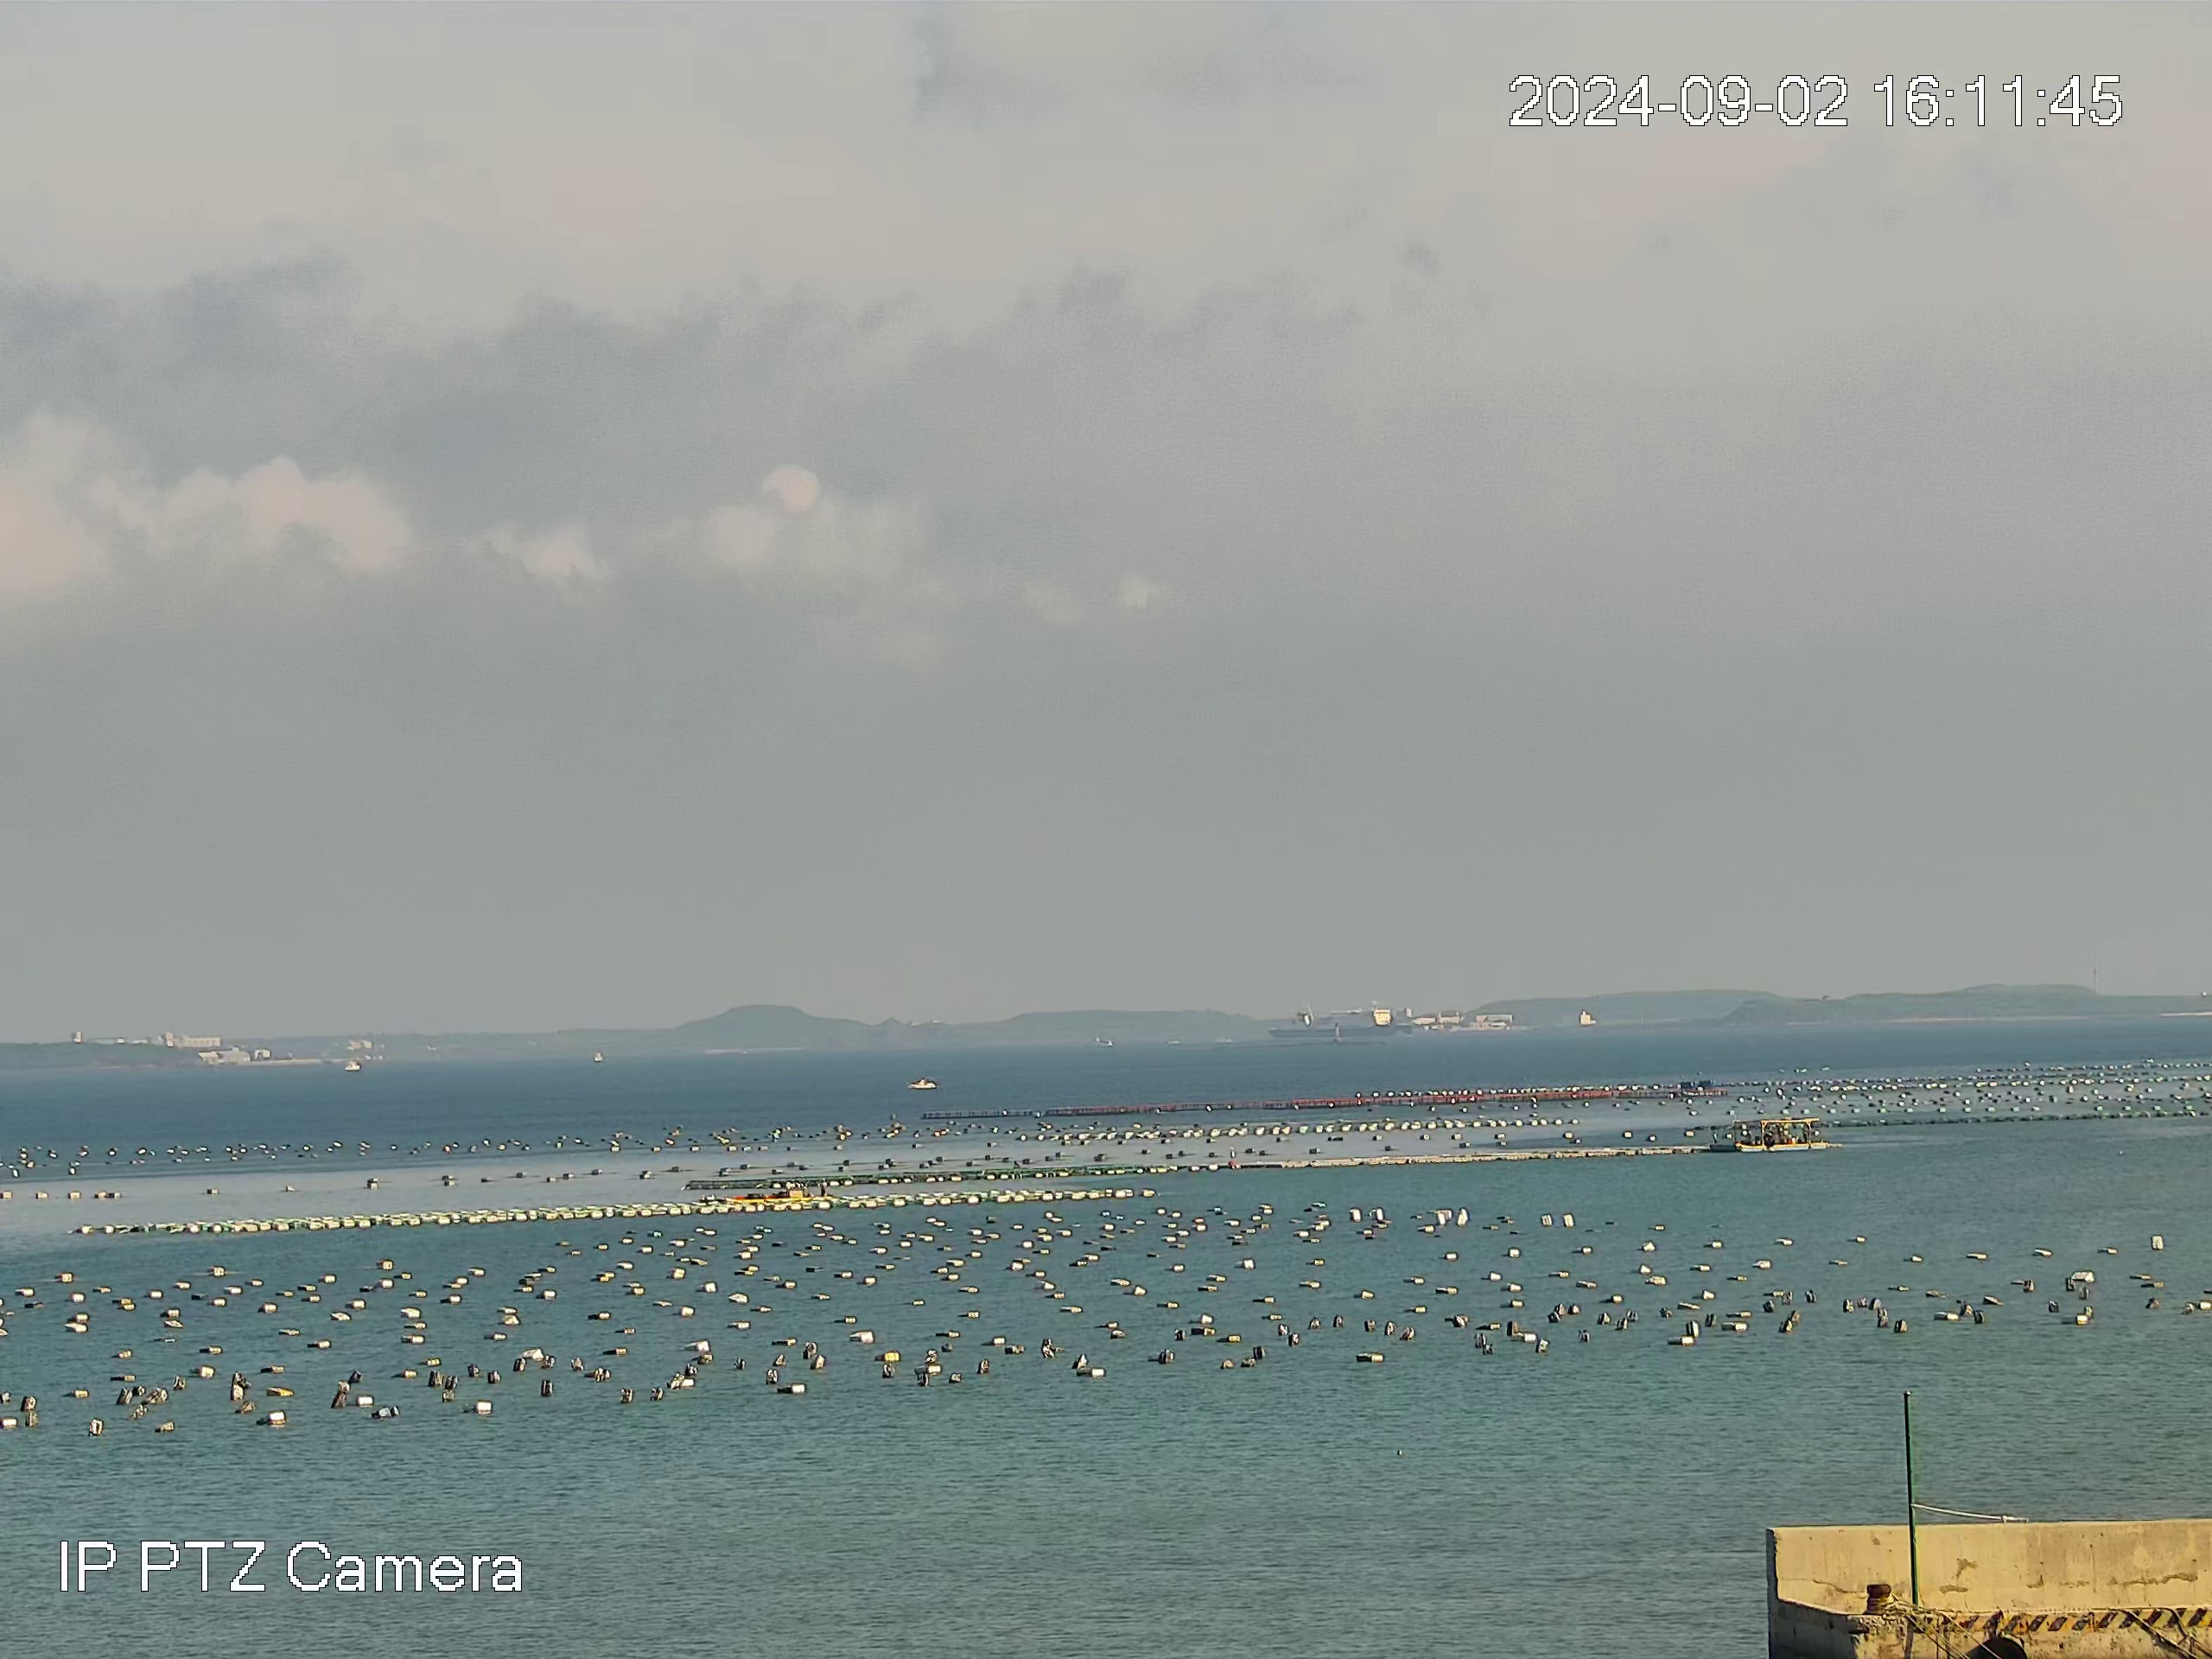boat: (1264, 1007, 1416, 1037), (1733, 1117, 1831, 1154), (723, 1182, 815, 1202), (906, 1077, 937, 1091)
